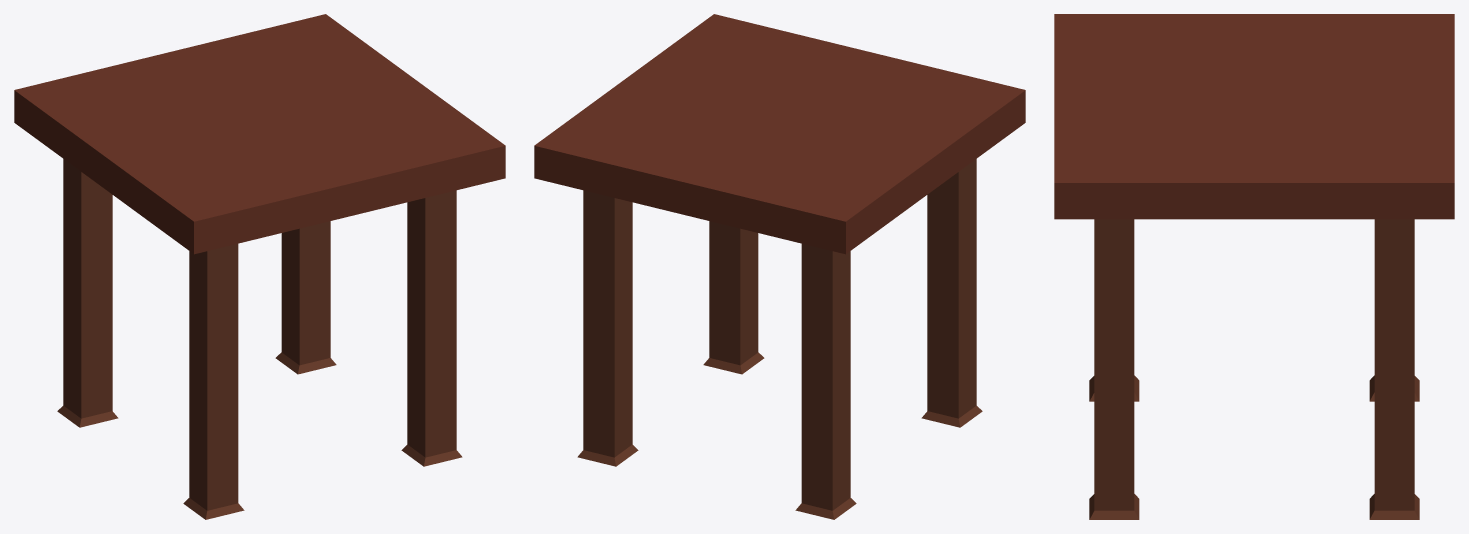
File: Table.fbx
3 renders of one model, left to right at view 1: azimuth 30°, elevation 25°; view 2: azimuth 150°, elevation 25°; view 3: azimuth 270°, elevation 25°, orthographic. The views are drawn at different scales.
Parts seen in each view (by area): view 1: Vert.001; view 2: Vert.001; view 3: Vert.001.
Part boxes in pixels (left/top/right/bottom): Vert.001: left=14, top=14, right=505, bottom=519; Vert.001: left=534, top=14, right=1025, bottom=519; Vert.001: left=1054, top=14, right=1454, bottom=519.
Bounding box in the file's own units: 270 × 262 × 270.
